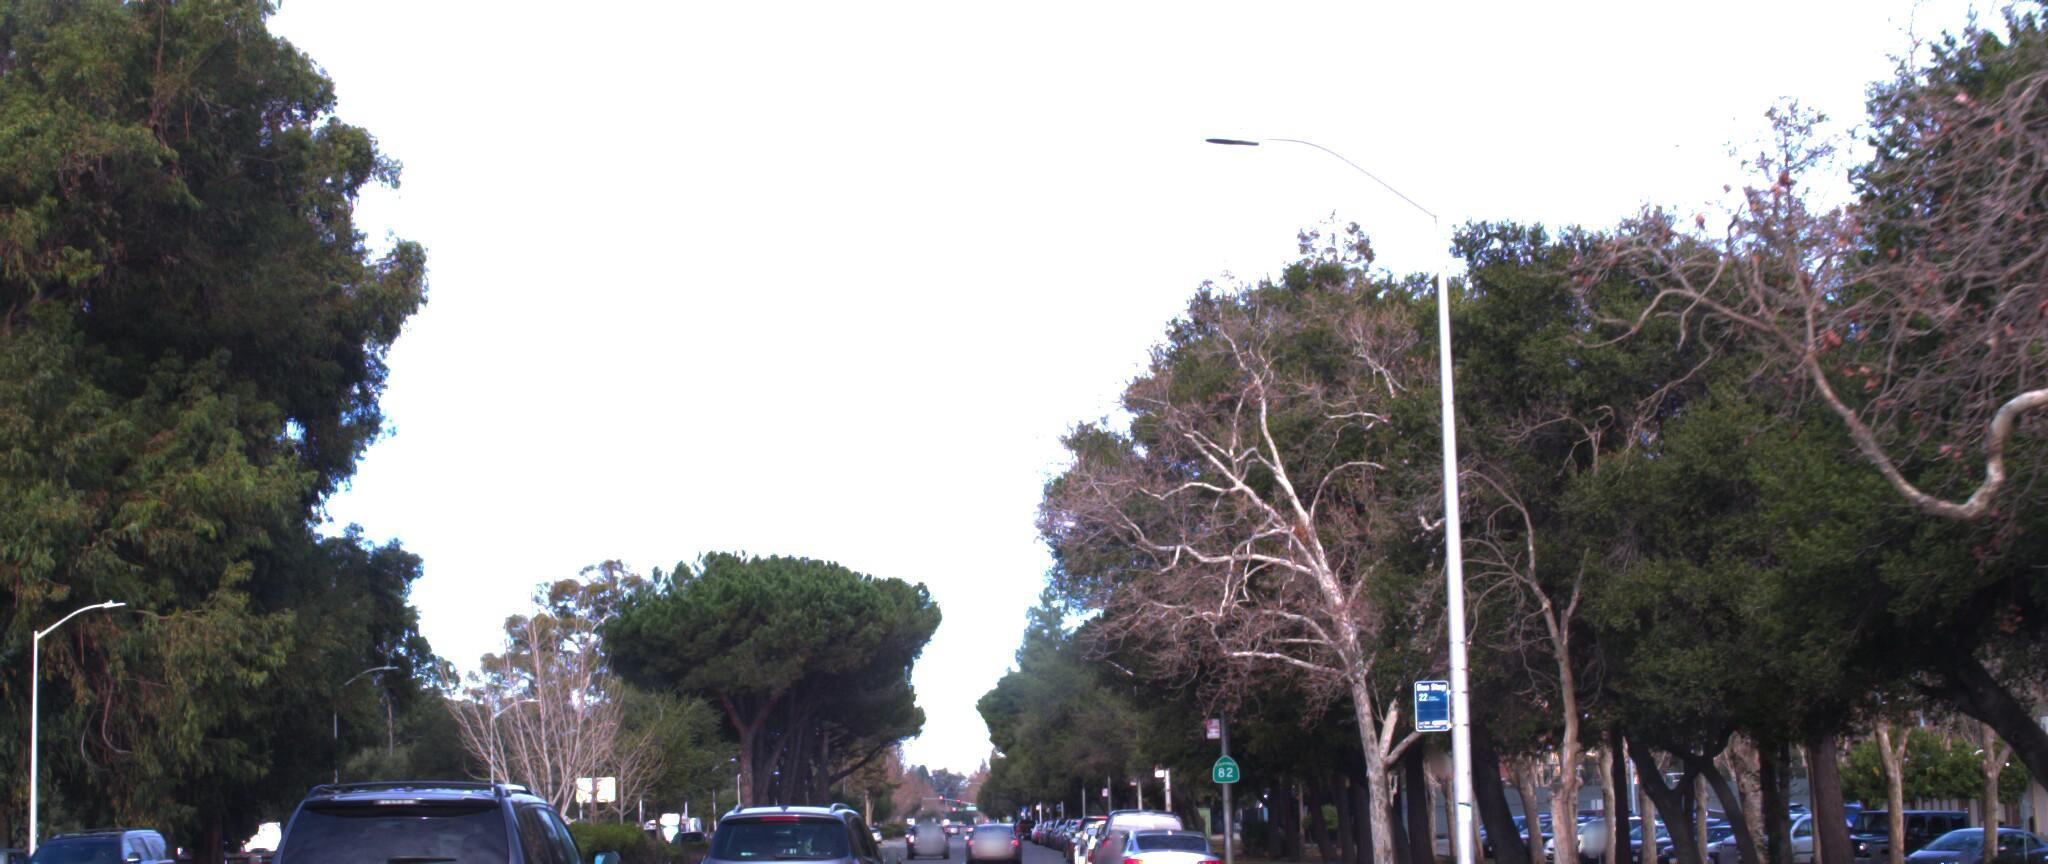car: (219, 745, 654, 864), (680, 784, 913, 864), (0, 800, 195, 864), (1096, 797, 1236, 864), (0, 810, 59, 864)
